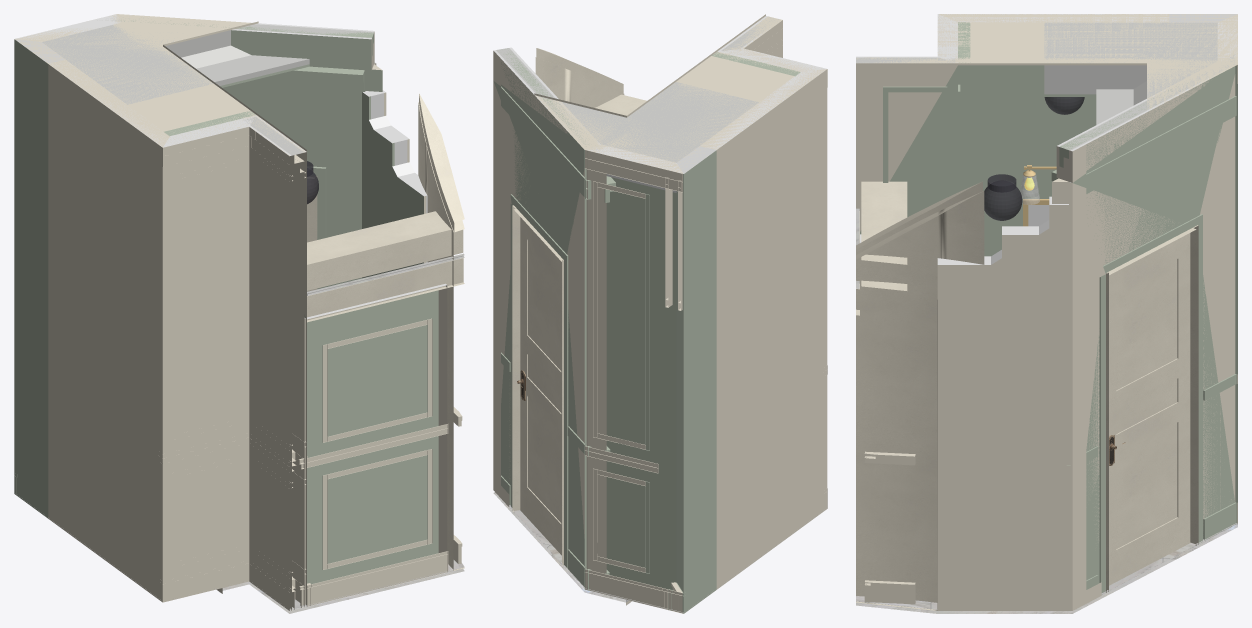
File: powder-room-845a744a68b7.glb
3 renders of one model, left to right at view 1: azimuth 30°, elevation 25°; view 2: azimuth 150°, elevation 25°; view 3: azimuth 270°, elevation 25°, orthographic. The views are drawn at different scales.
Parts seen in each view (by area): view 1: powder-room-d33eebe572d154f2, powder-room-1a8091885ac212af, powder-room-ab5cb5e7d303dd66, powder-room-85f0fd939e0fcc78, powder-room-9b21989b25895c4a, powder-room-a5eabba2ad6474eb, powder-room-2575515a05775d9e, powder-room-5b07a8f5f7929ff6, powder-room-ca6eafacc0f493ac, powder-room-3d7935a3f1355396, powder-room-261aa5c5ae0f77af, powder-room-b74e3495b7e70350 (+11 smaller); view 2: powder-room-d33eebe572d154f2, powder-room-a5eabba2ad6474eb, powder-room-b2b5f93b4255576d, powder-room-9b21989b25895c4a, powder-room-539cd4ce99668665, powder-room-2575515a05775d9e, powder-room-5b07a8f5f7929ff6, powder-room-86d6fc7292b21ae1, powder-room-ae2ab6de1156d266, powder-room-48dc2409da547ff7, powder-room-b74e3495b7e70350, powder-room-f5fbb4dd3b92b4c5 (+14 smaller); view 3: powder-room-d65b0a574c2ac13c, powder-room-a5eabba2ad6474eb, powder-room-b74e3495b7e70350, powder-room-539cd4ce99668665, powder-room-2575515a05775d9e, powder-room-d33eebe572d154f2, powder-room-85f0fd939e0fcc78, powder-room-5b07a8f5f7929ff6, powder-room-48dc2409da547ff7, powder-room-86d6fc7292b21ae1, powder-room-48dd1d74e06d76de, powder-room-ca6eafacc0f493ac (+17 smaller).
Part boxes in pixels (box(x1,y1,x2,y2)): powder-room-d33eebe572d154f2: box(48, 60, 167, 601); powder-room-1a8091885ac212af: box(163, 116, 255, 602); powder-room-ab5cb5e7d303dd66: box(306, 283, 447, 605); powder-room-85f0fd939e0fcc78: box(243, 115, 306, 610); powder-room-9b21989b25895c4a: box(14, 39, 64, 518); powder-room-a5eabba2ad6474eb: box(97, 14, 382, 286); powder-room-2575515a05775d9e: box(14, 14, 306, 155); powder-room-5b07a8f5f7929ff6: box(42, 24, 309, 104); powder-room-ca6eafacc0f493ac: box(307, 211, 463, 290); powder-room-3d7935a3f1355396: box(362, 92, 426, 278); powder-room-261aa5c5ae0f77af: box(306, 257, 464, 322); powder-room-b74e3495b7e70350: box(418, 102, 464, 570); powder-room-d33eebe572d154f2: box(701, 69, 827, 589); powder-room-a5eabba2ad6474eb: box(493, 47, 606, 589); powder-room-b2b5f93b4255576d: box(584, 145, 683, 593); powder-room-9b21989b25895c4a: box(676, 146, 716, 613); powder-room-539cd4ce99668665: box(520, 217, 561, 555); powder-room-2575515a05775d9e: box(534, 14, 826, 173); powder-room-5b07a8f5f7929ff6: box(562, 82, 758, 162); powder-room-86d6fc7292b21ae1: box(512, 205, 563, 565); powder-room-ae2ab6de1156d266: box(593, 181, 649, 450); powder-room-48dc2409da547ff7: box(510, 194, 568, 567); powder-room-b74e3495b7e70350: box(535, 57, 624, 107); powder-room-f5fbb4dd3b92b4c5: box(585, 569, 682, 613); powder-room-d65b0a574c2ac13c: box(937, 204, 1068, 610); powder-room-a5eabba2ad6474eb: box(1052, 54, 1235, 610); powder-room-b74e3495b7e70350: box(856, 191, 984, 610); powder-room-539cd4ce99668665: box(1109, 233, 1190, 585); powder-room-2575515a05775d9e: box(856, 14, 1237, 110); powder-room-d33eebe572d154f2: box(938, 14, 1169, 256); powder-room-85f0fd939e0fcc78: box(856, 56, 957, 234); powder-room-5b07a8f5f7929ff6: box(1044, 22, 1217, 124); powder-room-48dc2409da547ff7: box(1099, 214, 1202, 594); powder-room-86d6fc7292b21ae1: box(1106, 225, 1198, 592); powder-room-48dd1d74e06d76de: box(1086, 96, 1236, 193); powder-room-ca6eafacc0f493ac: box(861, 181, 907, 290).
Size of the model in its own units: 1.92 by 3.05 by 2.26.
Materials: 28 (5 with a texture image).
